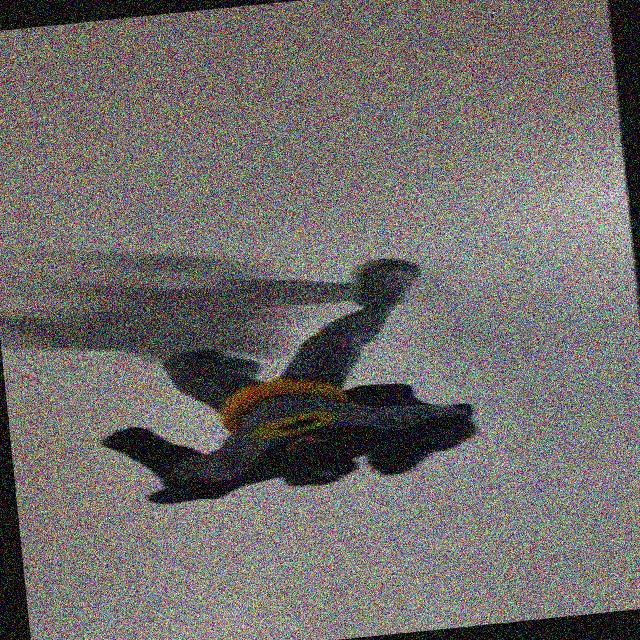Batman: (65, 216, 509, 528)
